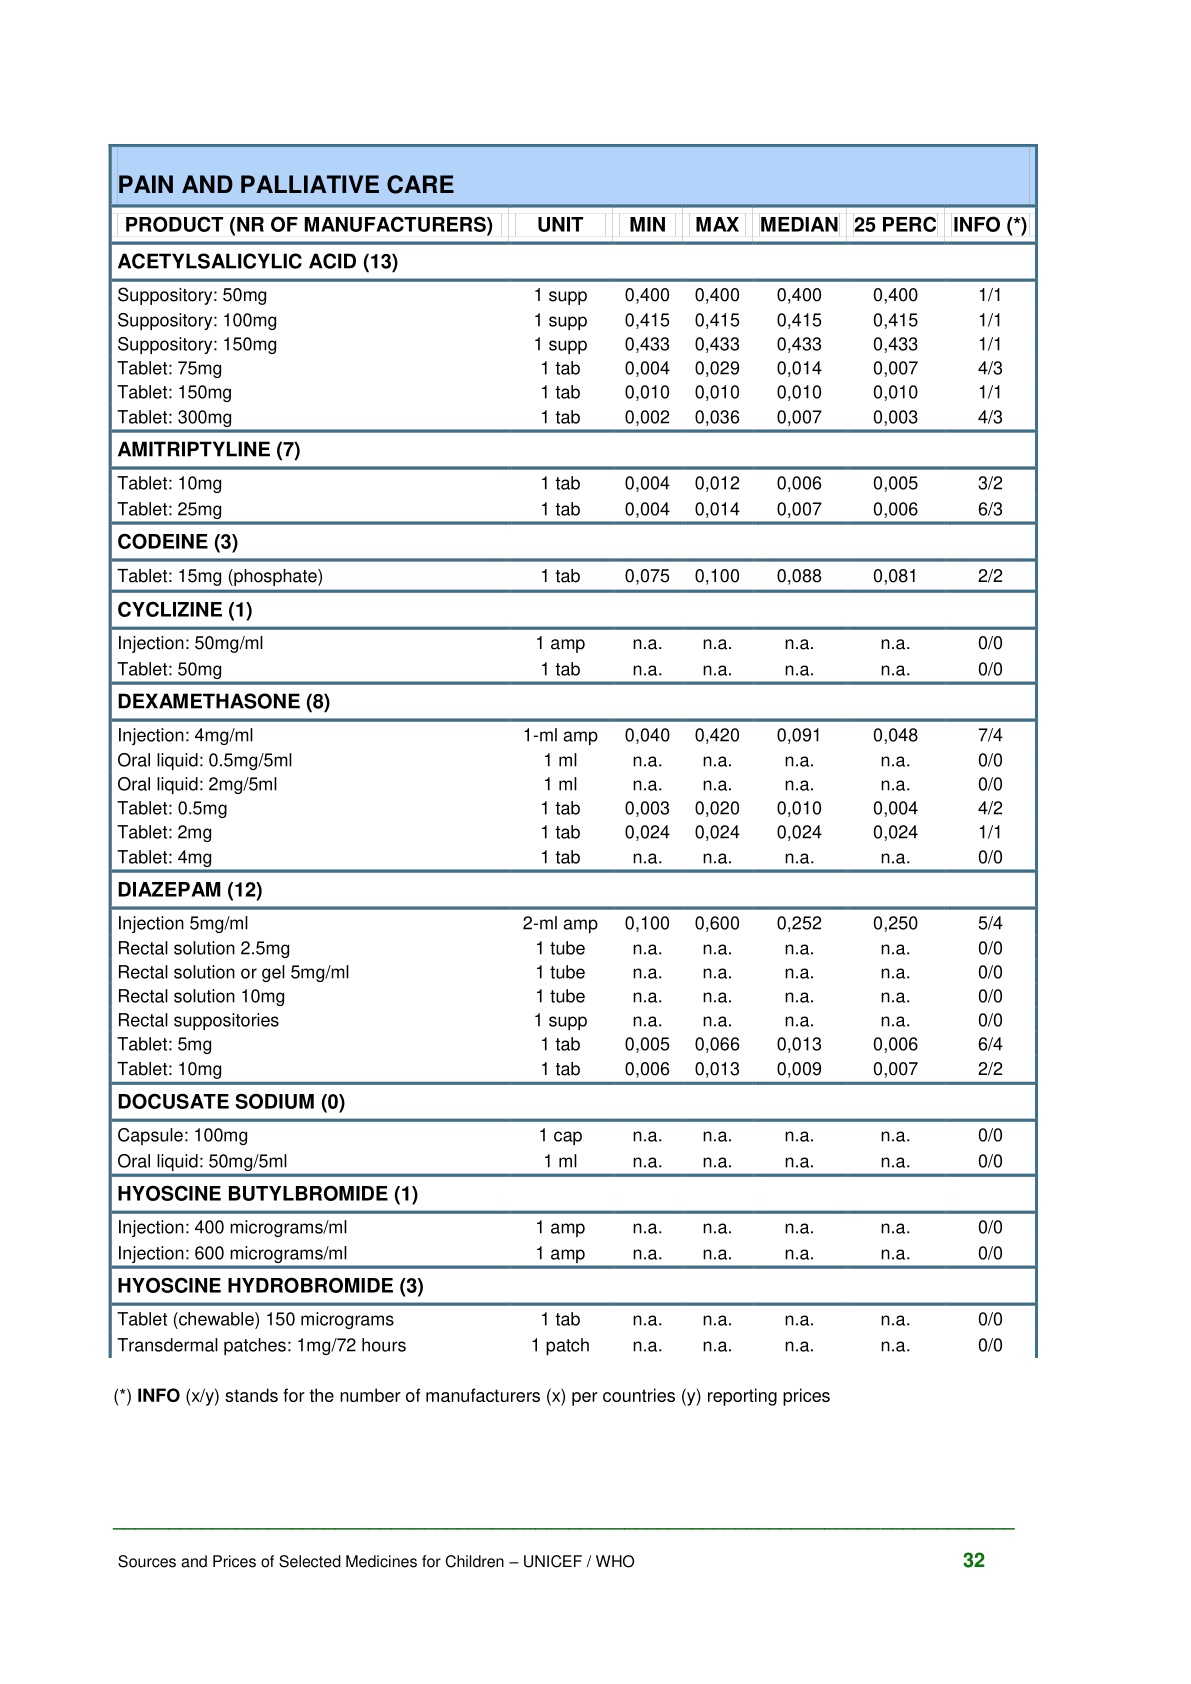partial_lined: (108, 142, 1039, 1361)
